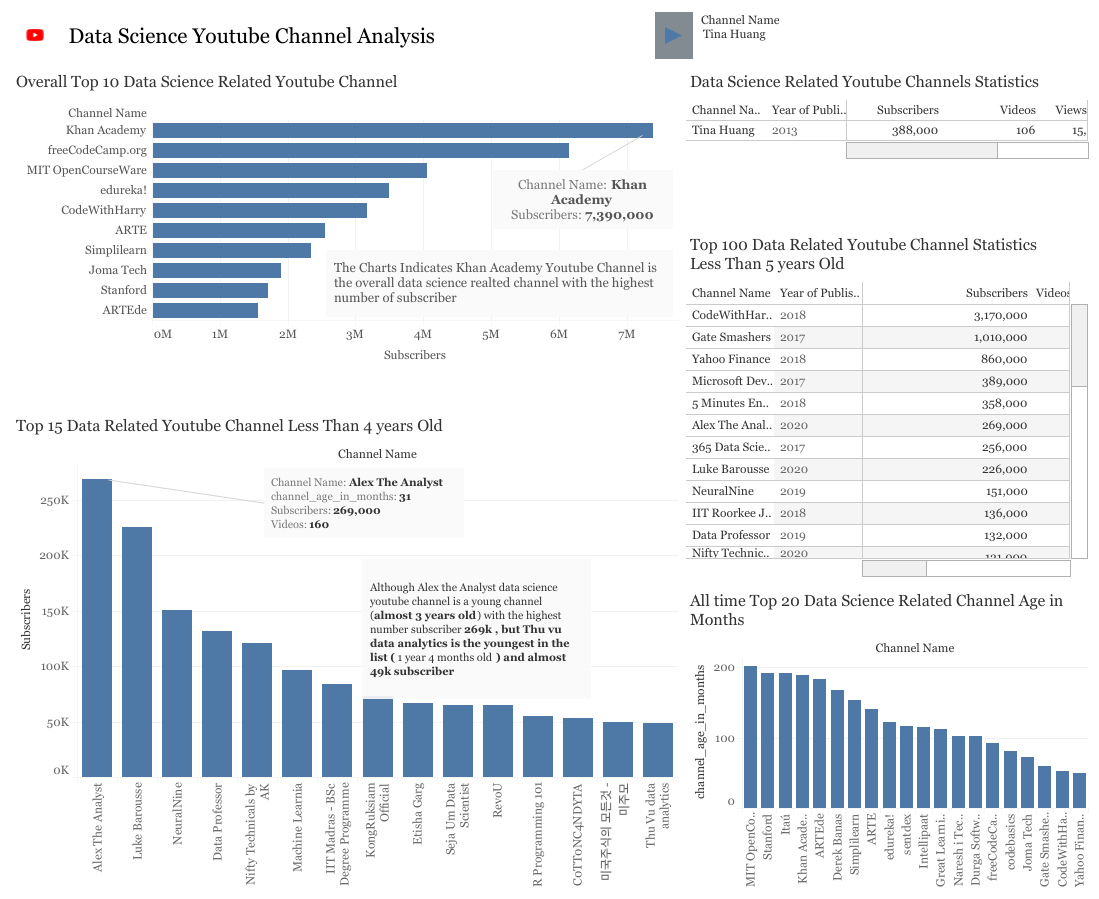

The page's visual inventory and layout, read from the dashboard file:
{"tool":"tableau","page":{"name":"Dashboard 1","canvas":[1100,900],"ordinal":0},"visuals":[{"type":"image","param":"Image/youtube-logo-hd-8.png","box":[8,8,54,54.1]},{"type":"text","box":[62,8,589,54.1]},{"type":"worksheet","title":"Sheet 8","mark":"Shape","rows":["Calculation_1591881733897740371"],"box":[651,8,45.5,54.1]},{"type":"filter","title":"Stats","param":"[federated.0j065nl1la0ncz1cc71mw12uy0ku].[none:channel_name:nk]","box":[696.5,8,395.5,52]},{"type":"worksheet","title":"Overall Top DS-YT-Channel","mark":"Automatic","rows":["channel_name"],"cols":["subscribers"],"box":[8,62.1,674.2,344]},{"type":"worksheet","title":"Stats","mark":"Automatic","rows":["channel_name","published_date"],"box":[682.2,62.1,409.8,101]},{"type":"worksheet","title":"table","mark":"Automatic","rows":["channel_name","published_date"],"box":[682.2,225,409.8,356]},{"type":"worksheet","title":"Top 15 Young","mark":"Automatic","rows":["subscribers"],"cols":["channel_name"],"box":[8,406.1,674.2,485.9]},{"type":"worksheet","title":"Tops Ages","mark":"Automatic","rows":["Calculation_1066508689537130538"],"cols":["channel_name"],"box":[682.2,581,409.8,311]}]}

Visuals, with their boxes in screenshot pixels (x1, y1, x2, y2), scaled from the page's 1100x900 canvas onto the 1099x899 screenshot:
image: Rect(8, 8, 62, 62)
text: Rect(62, 8, 650, 62)
"Sheet 8" worksheet (Shape marks): Rect(650, 8, 696, 62)
"Stats" filter: Rect(696, 8, 1091, 60)
"Overall Top DS-YT-Channel" worksheet: Rect(8, 62, 682, 406)
"Stats" worksheet: Rect(682, 62, 1091, 163)
"table" worksheet: Rect(682, 225, 1091, 580)
"Top 15 Young" worksheet: Rect(8, 406, 682, 891)
"Tops Ages" worksheet: Rect(682, 580, 1091, 891)
